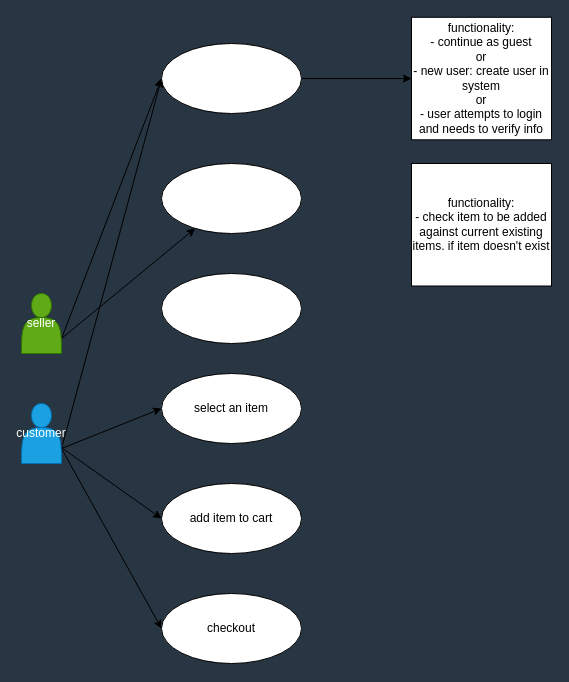
Some shapes in this 569 by 682 pixel diagram are drawn without their labels. The shapes that lost their labels are listed below. From the top down, each one's centre as x and y in pixels, then its label:
(x=231, y=78): login
(x=231, y=198): add item to sell
(x=231, y=308): search for item
